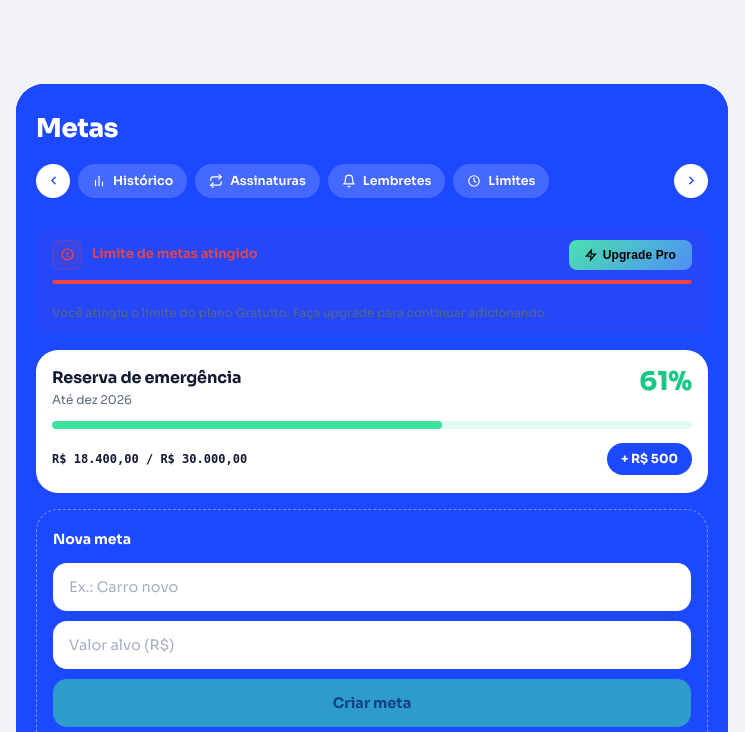
Test: Metas — nova meta › no limite do plano gratuito (1 meta) o botão fica desligado e explica
Expected: the text "Reserva de emergência" is shown, [52,368,241,388]
Type "Outra" into the field with placeholder "Ex.: Carro novo". click: coordinates (372, 587)
box: [53,563,691,611]
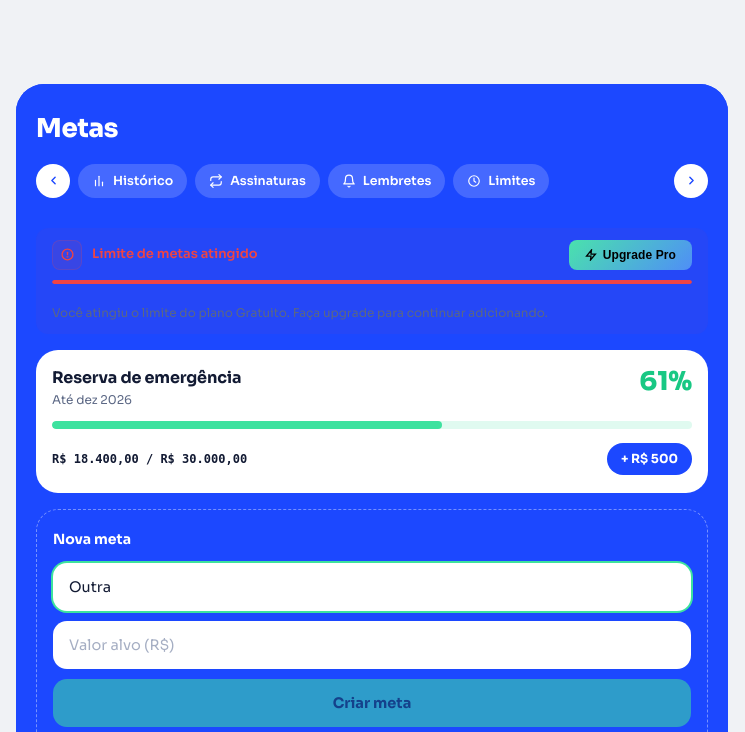
Type "1000" into the field with placeholder "Valor alvo (R$)". click: coordinates (372, 645)
box: [53,621,691,669]
(page scrolled)
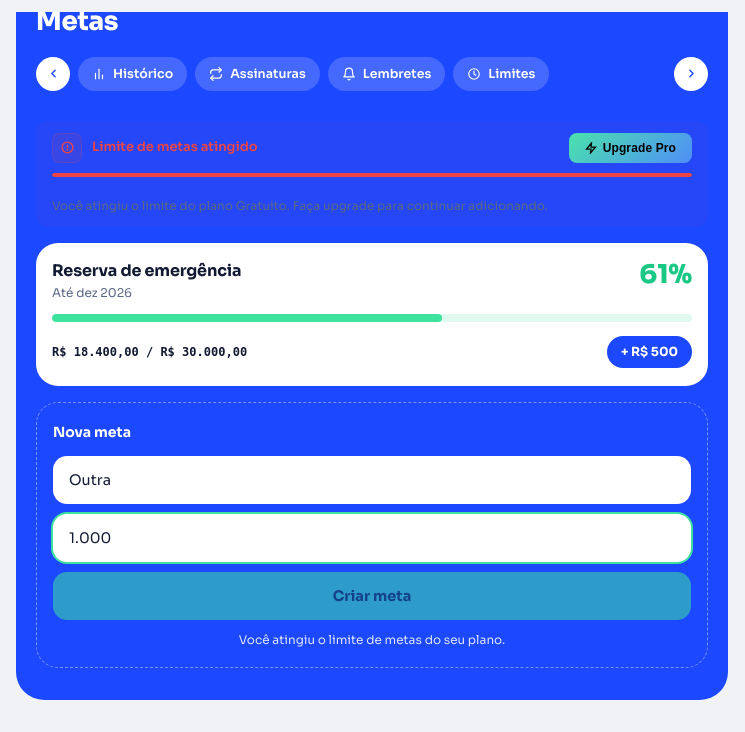
Expected: the button "Criar meta" is disabled, [53,572,691,620]
Now the text "Você atingiu o limite de metas do seu plano." is shown, box [239,632,505,647]
